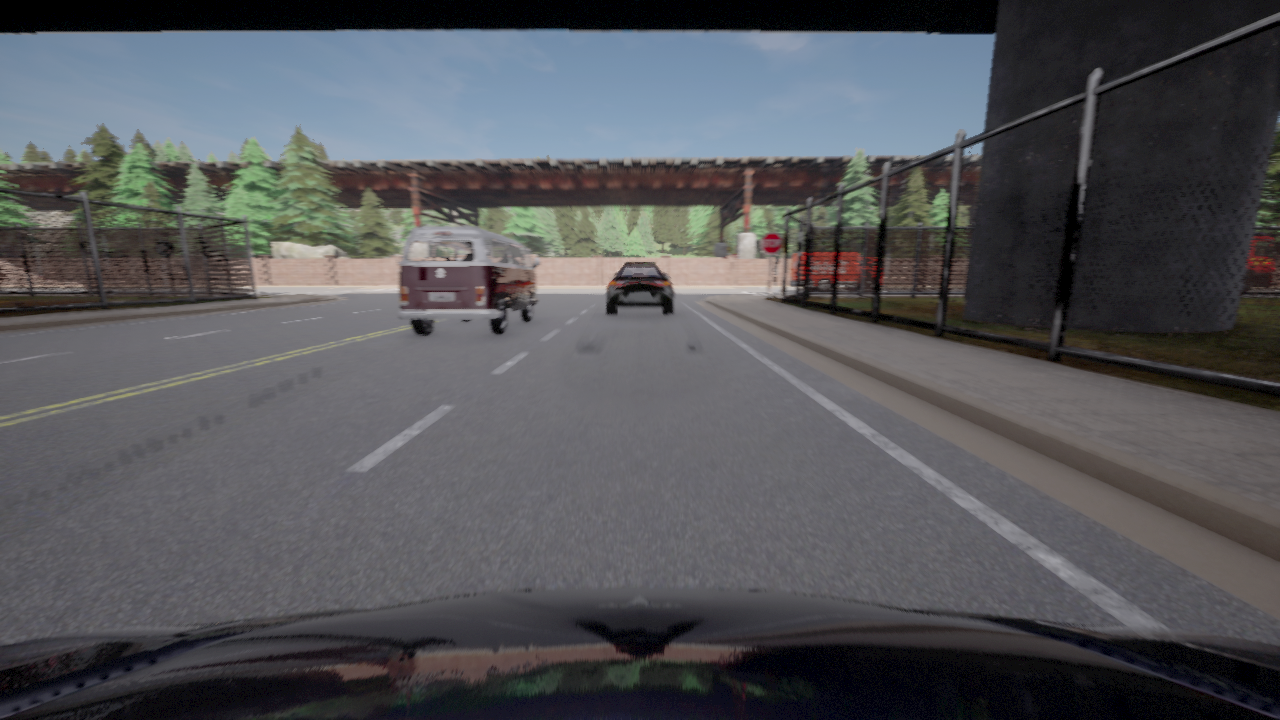cyclist: (0, 588, 1279, 719), (398, 226, 540, 335), (790, 252, 884, 291), (607, 262, 673, 313), (1242, 232, 1275, 291)
